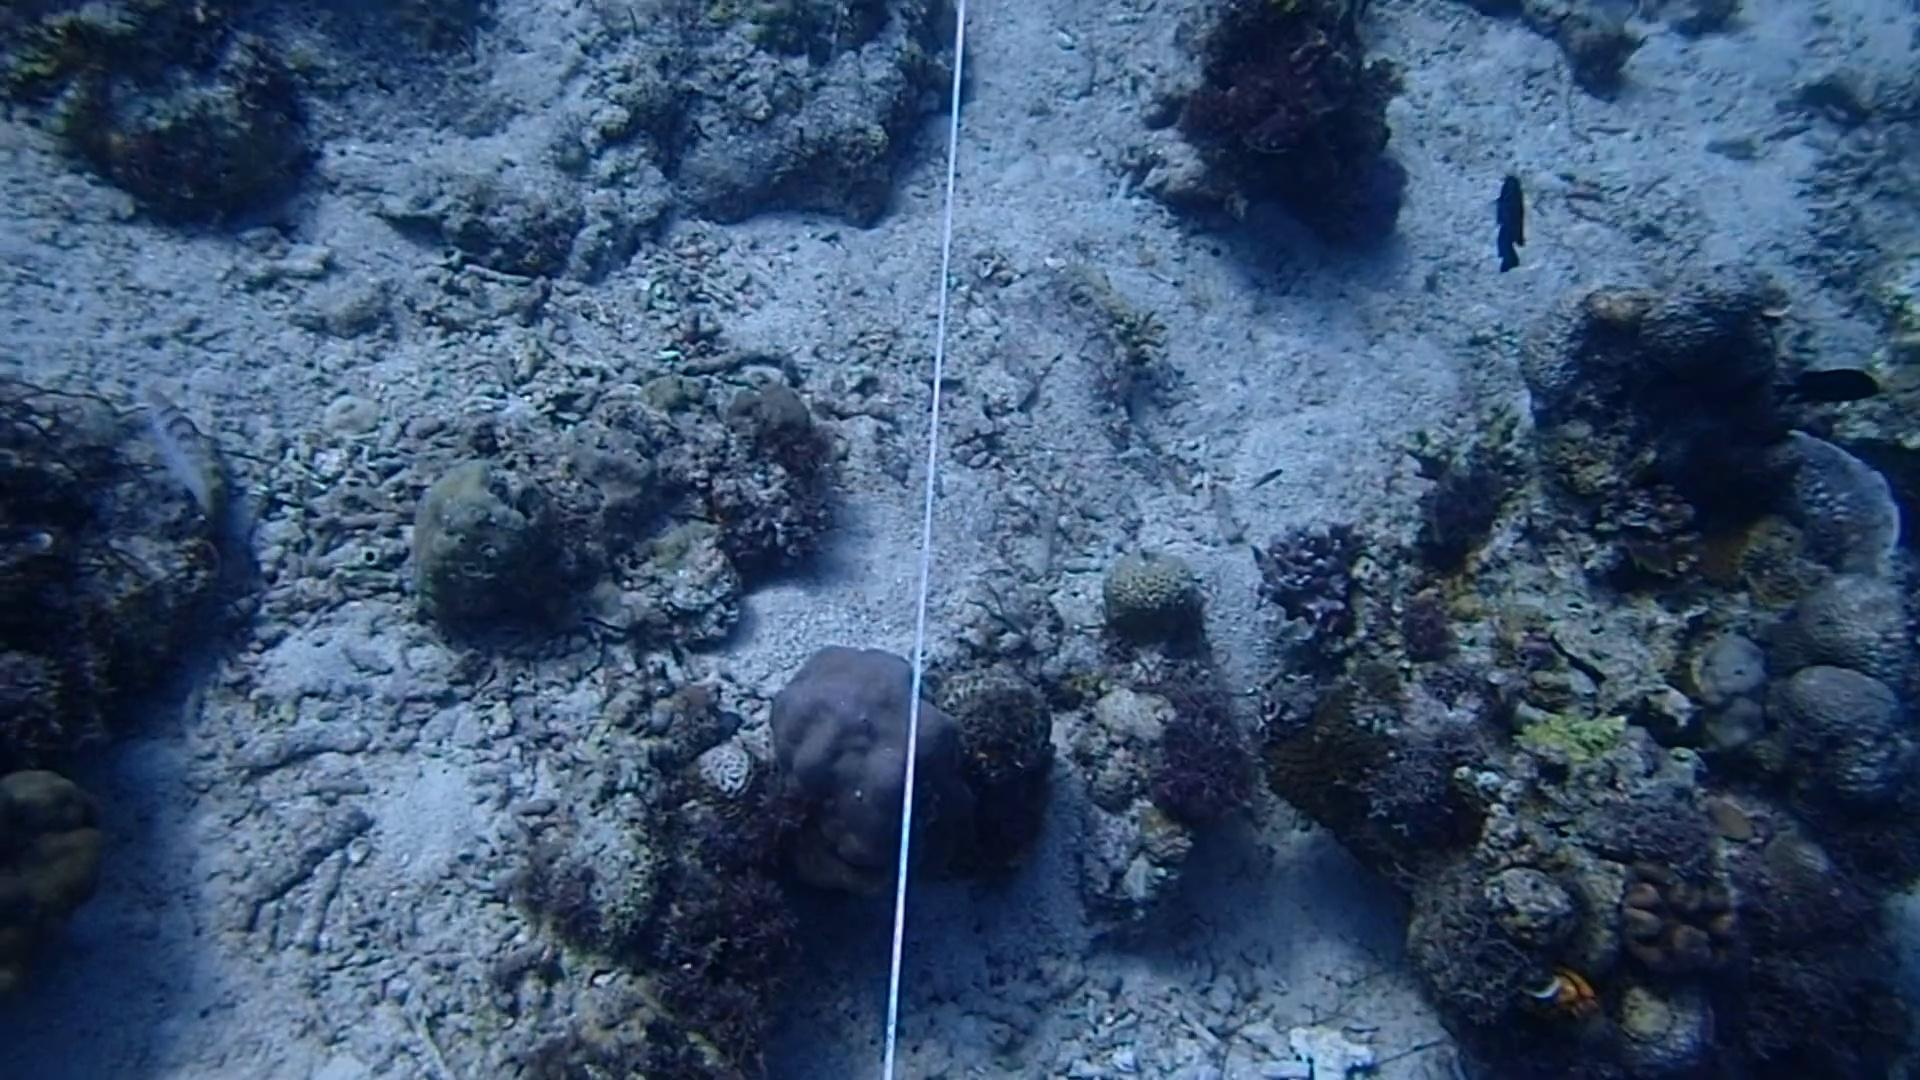Dark Fish: (1763, 349, 1883, 421), (1480, 160, 1548, 282)
Light Fish w Back Stripes: (124, 368, 231, 521)
